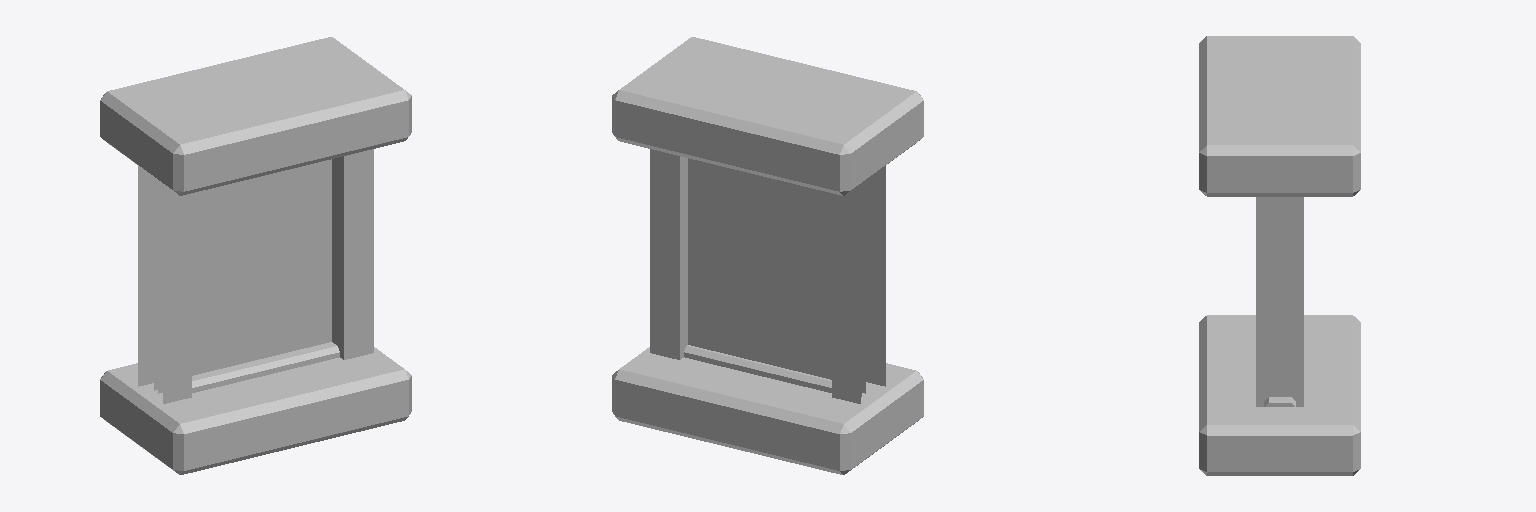
File: window_small_modular.obj
3 views of the same model, side by side, from view 1: azimuth 30°, elevation 25°; view 2: azimuth 150°, elevation 25°; view 3: azimuth 270°, elevation 25° (orthographic).
Parts seen in each view (by area): view 1: window_small_modular; view 2: window_small_modular; view 3: window_small_modular.
Boxes of the visible parts, <box> form: window_small_modular: <box>100,37,411,474</box>; window_small_modular: <box>612,37,923,474</box>; window_small_modular: <box>1199,36,1360,475</box>.
Size of the model in its own units: 1.7 by 2.25 by 1.